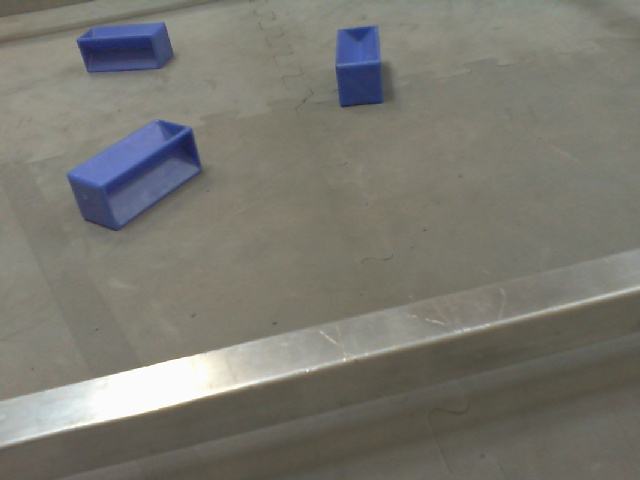BlueSample: (66, 116, 204, 235), (74, 17, 176, 78), (328, 24, 389, 110)
